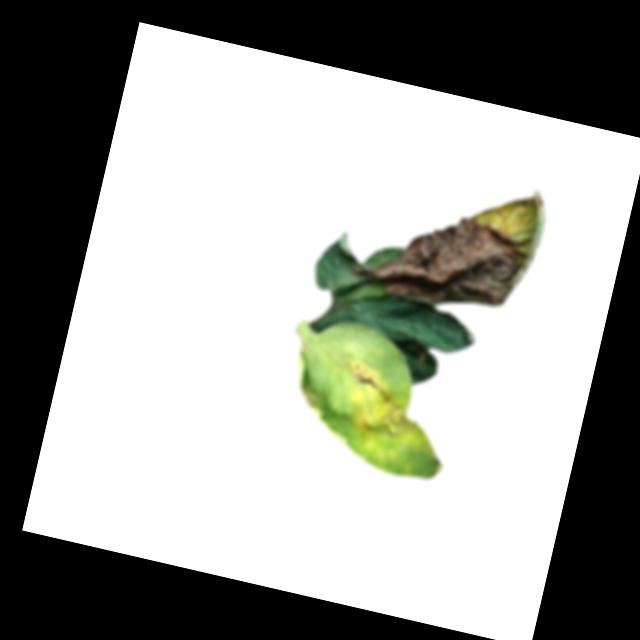Late_blight: (343, 150, 553, 328), (330, 358, 432, 448), (297, 383, 326, 413)
